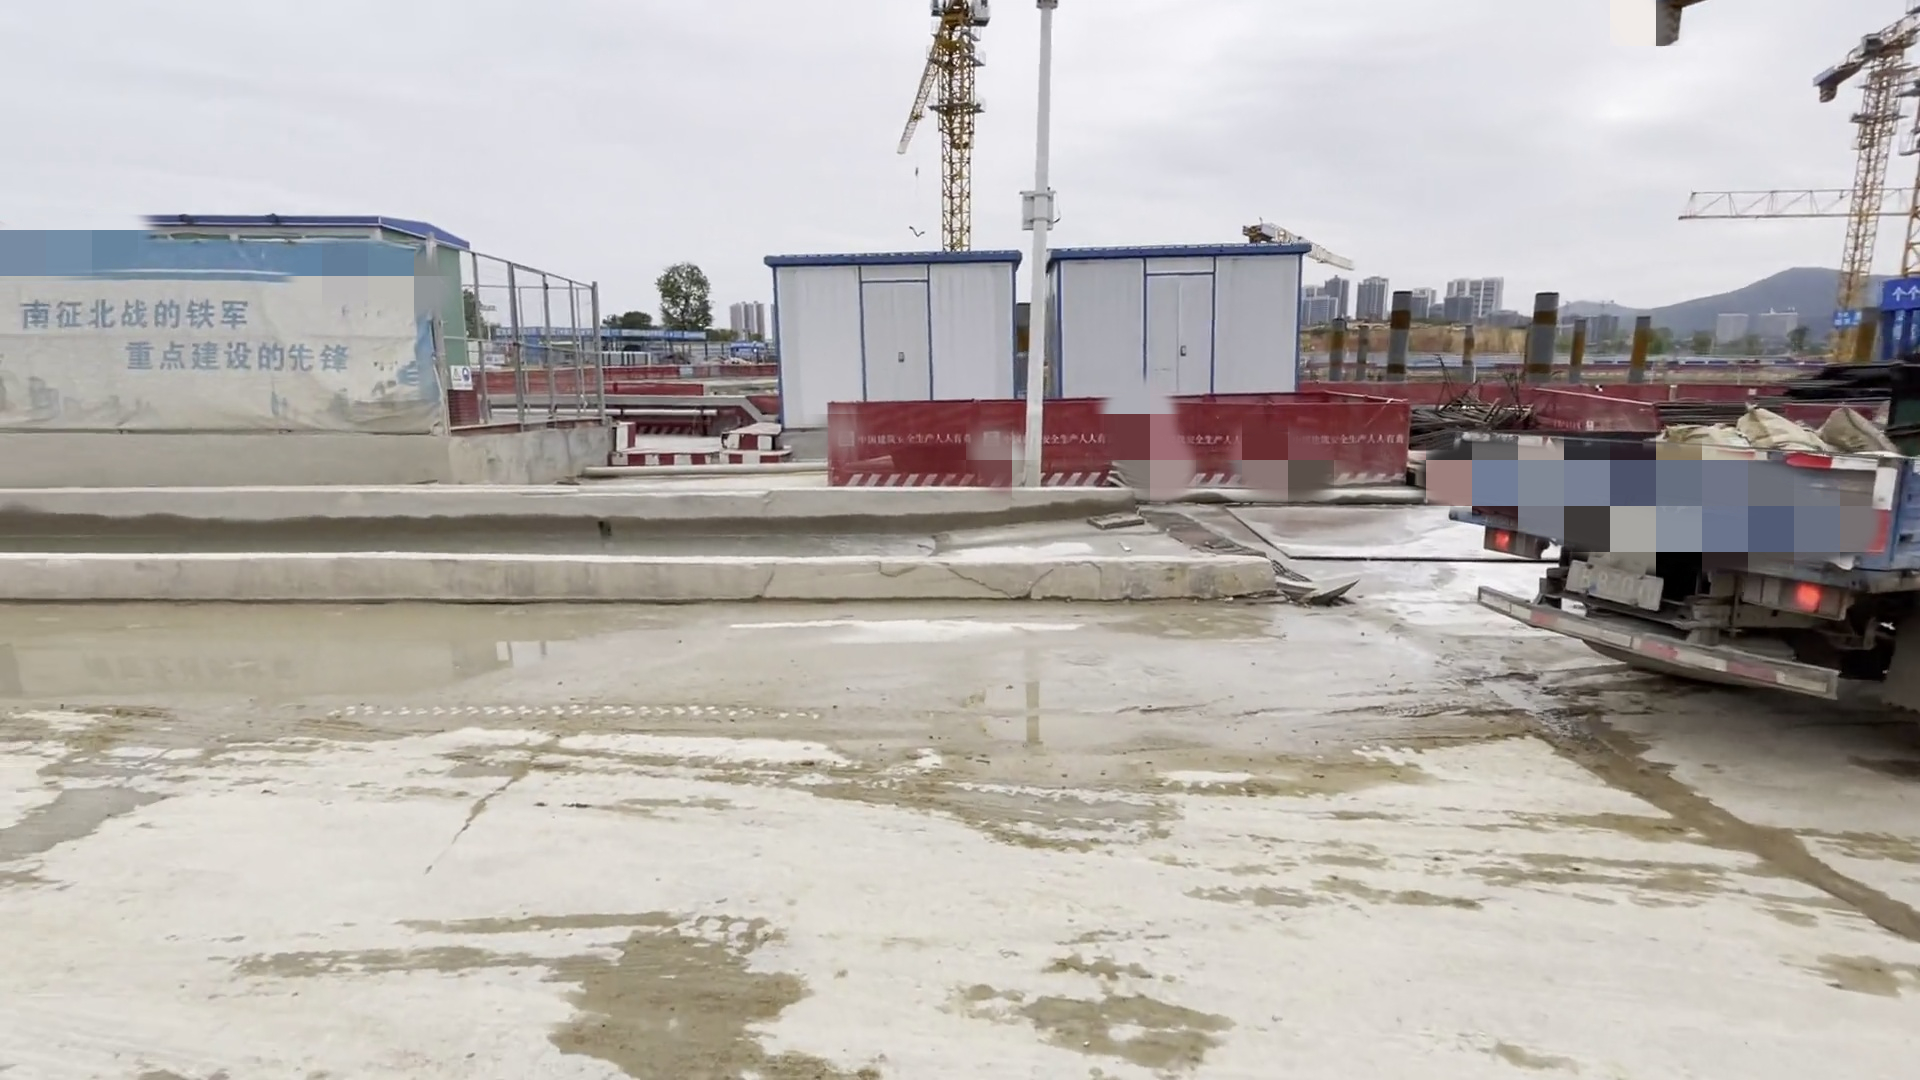slogan: (1, 245, 440, 435)
